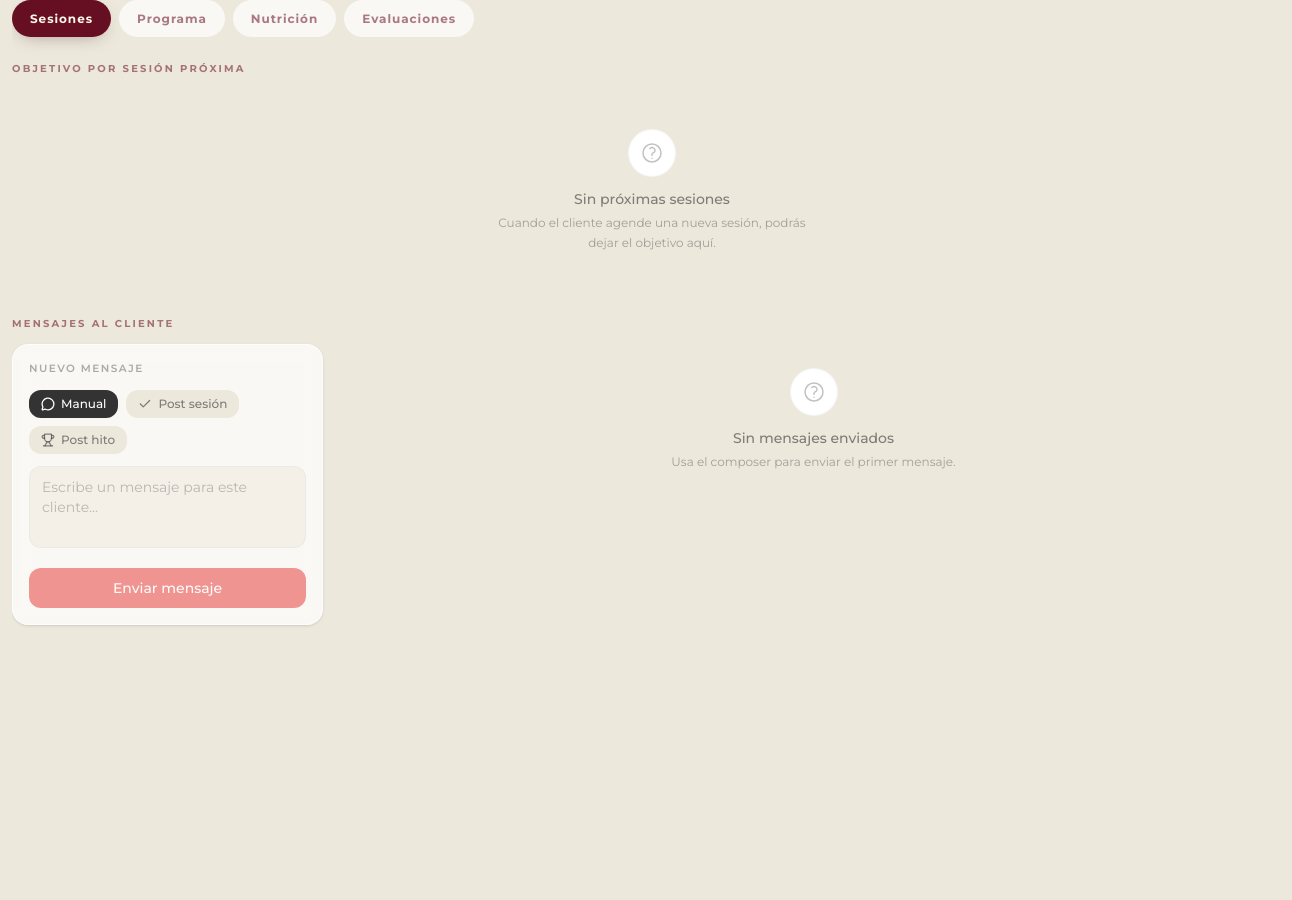
Test: NotesTab › renders the four module note cards
Click the button "Evaluaciones": [409, 19] box [344, 0, 474, 37]
(page scrolled)
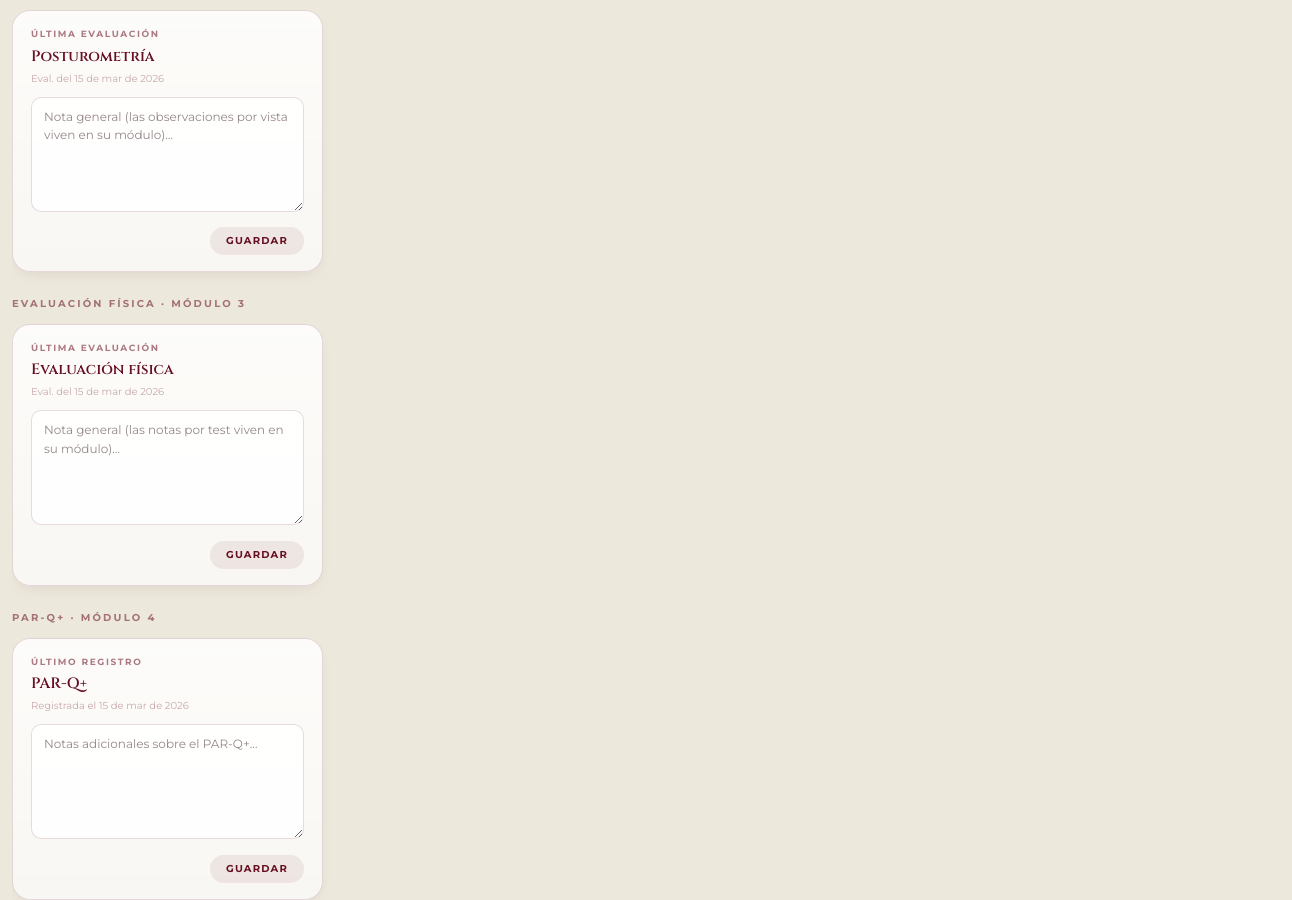
Expected: the text "Posturometría" is shown, [31, 46, 155, 66]
Expected: the text "Evaluación física" is shown, [31, 360, 174, 380]
Expected: the text "PAR-Q+" is shown, [31, 673, 87, 694]
